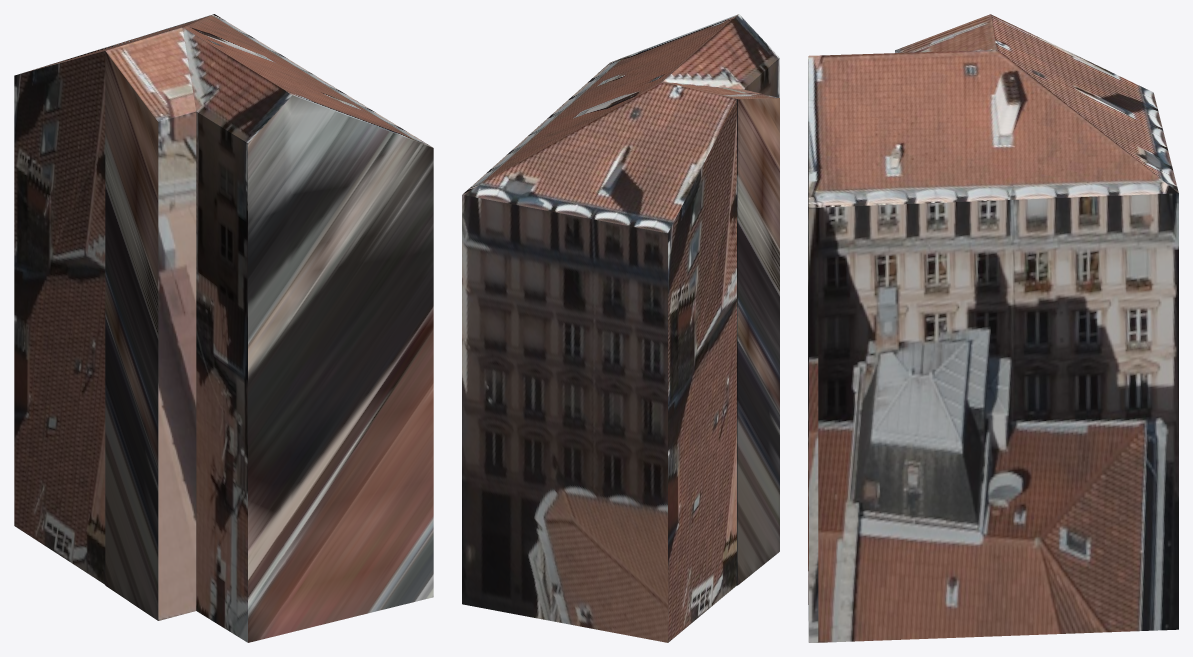
The picture shows the model from 3 angles, left to right: view 1: azimuth 30°, elevation 25°; view 2: azimuth 150°, elevation 25°; view 3: azimuth 270°, elevation 25°; orthographic projection. The views are drawn at different scales.
Visible parts, largest first — view 1: Z_UP; view 2: Z_UP; view 3: Z_UP.
Boxes of the visible parts, x1,y1,x2,y2 form: Z_UP: [14, 14, 433, 642]; Z_UP: [462, 14, 779, 642]; Z_UP: [808, 14, 1178, 642].
Bounding box in the file's own units: 12.89 × 27.38 × 17.7.
2 materials, 1 textured.
